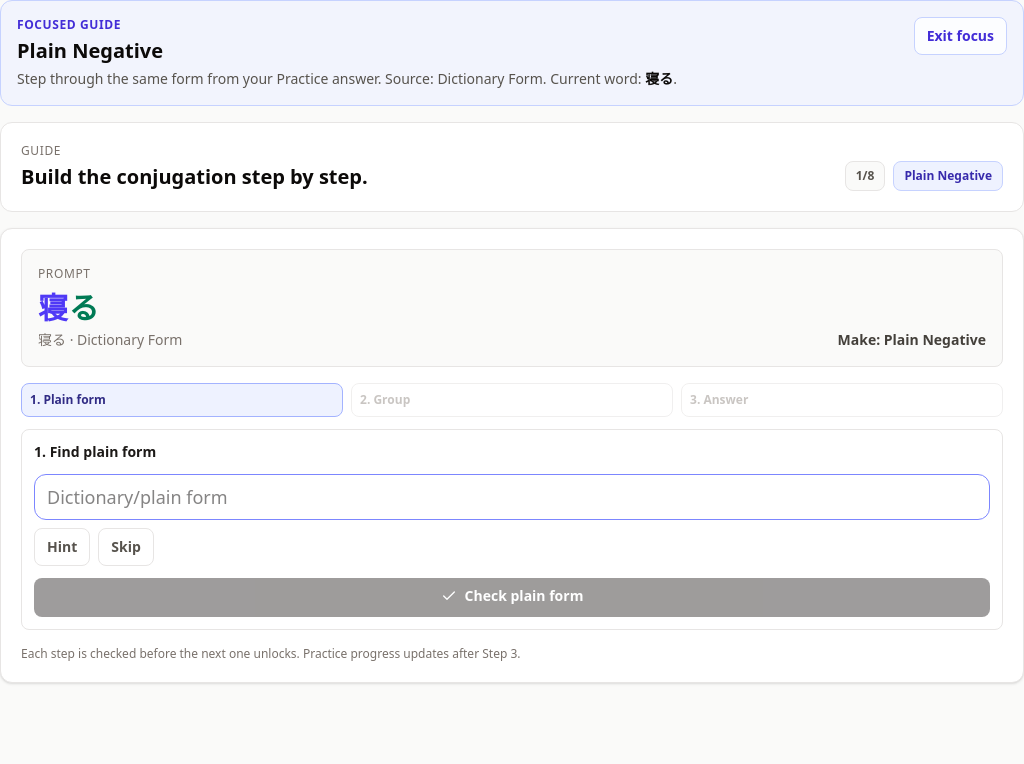
Scenario: Guide gated walkthrough › keeps a missed plain-form step locked until the learner types the correction
The image size is (1024, 764).
Expected: the button "2. Group" is disabled, [351, 383, 673, 417]
Type "taberu" into the field labelled "plain form" at x=512, y=497, box [34, 474, 990, 520]
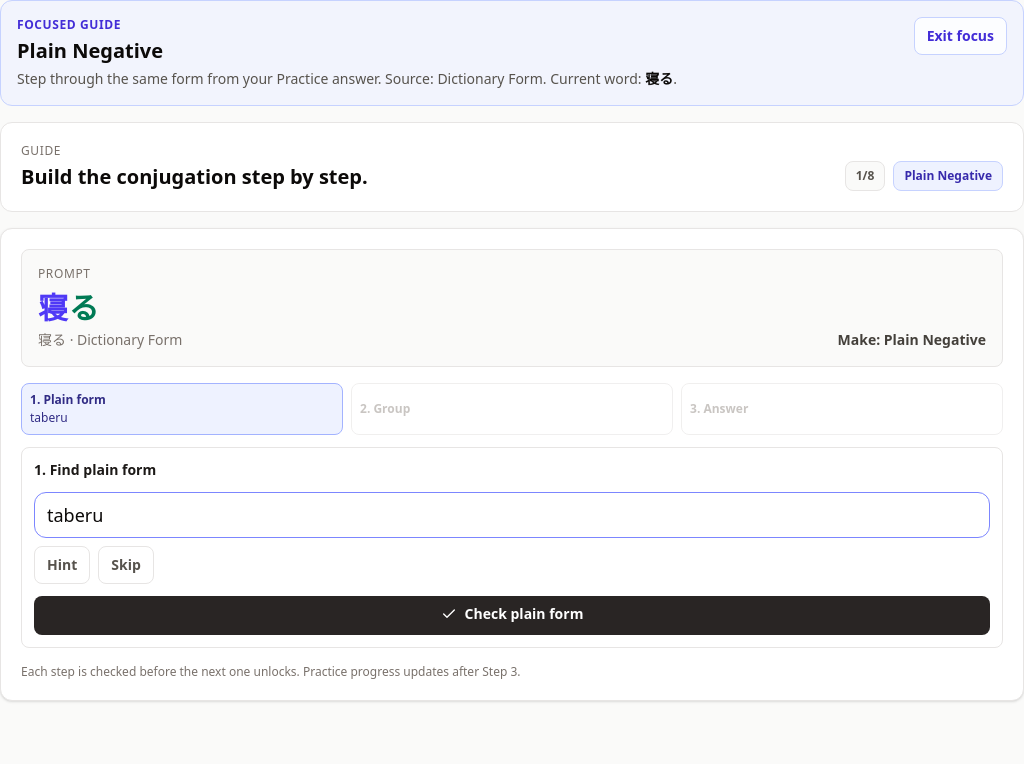
Click the button "Check plain form" at x=512, y=616, box [34, 596, 990, 635]
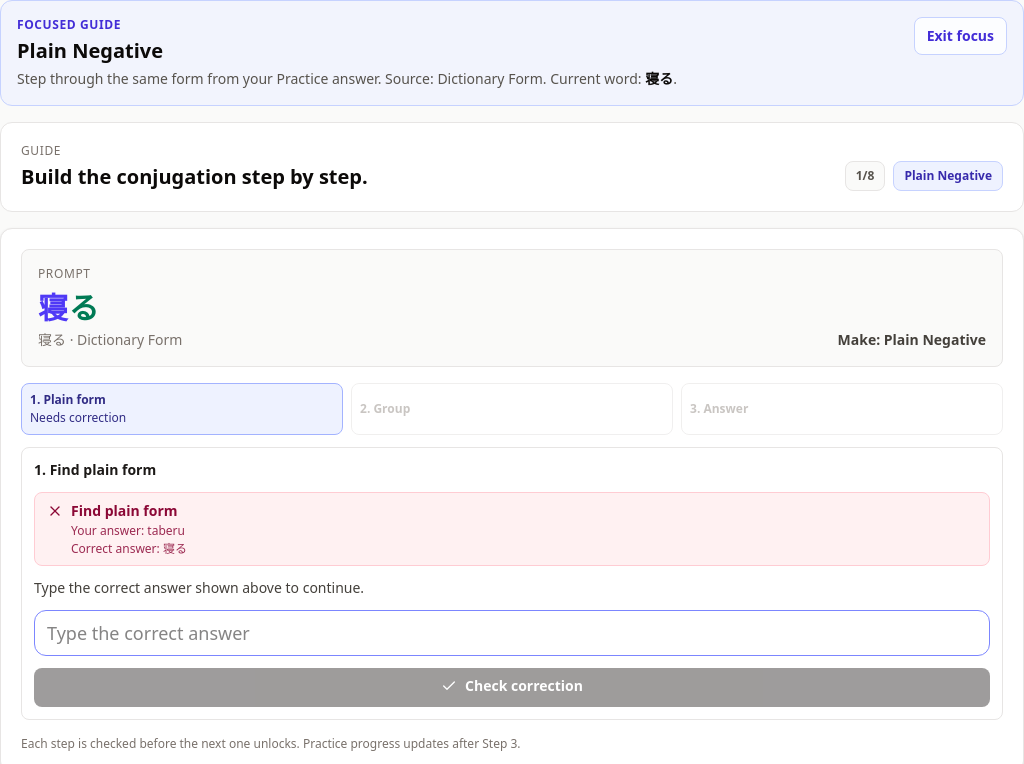
Expected: the button "2. Group" is disabled, [351, 383, 673, 435]
Result: the text "Your answer: taberu" is shown at [71, 523, 187, 539]
Result: the field named "Plain form" is empty
Type "taberu" into the field named "Plain form" at x=512, y=633, box [34, 610, 990, 656]
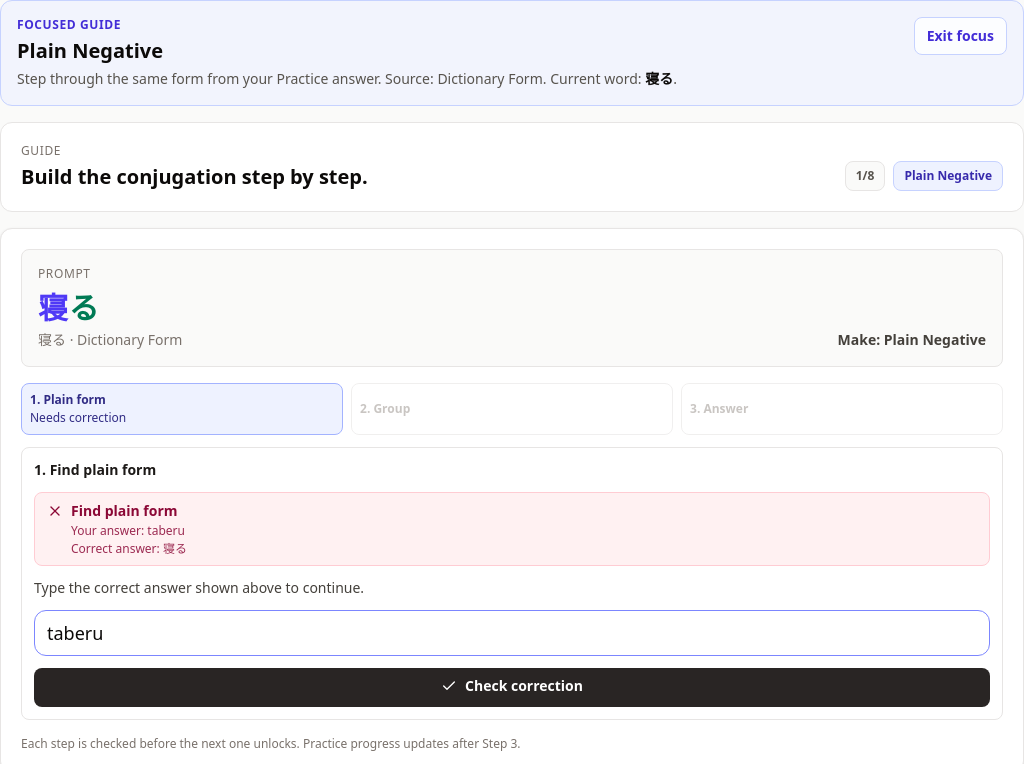
Click the button "Check correction" at x=512, y=688, box [34, 668, 990, 707]
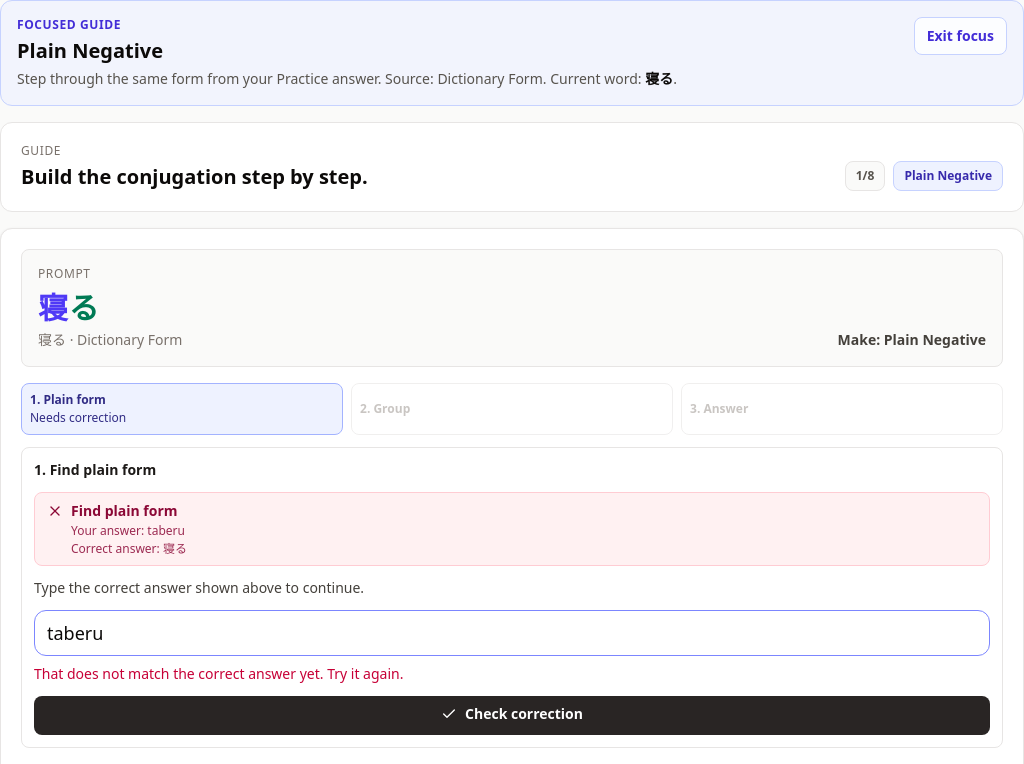
Result: the message "That does not match the correct answer yet. Try it again." is shown at [34, 664, 404, 683]
Replace the text in the field named "Plain form" with "neru" at x=512, y=633, box [34, 610, 990, 656]
Click the button "Check correction" at x=512, y=716, box [34, 696, 990, 735]
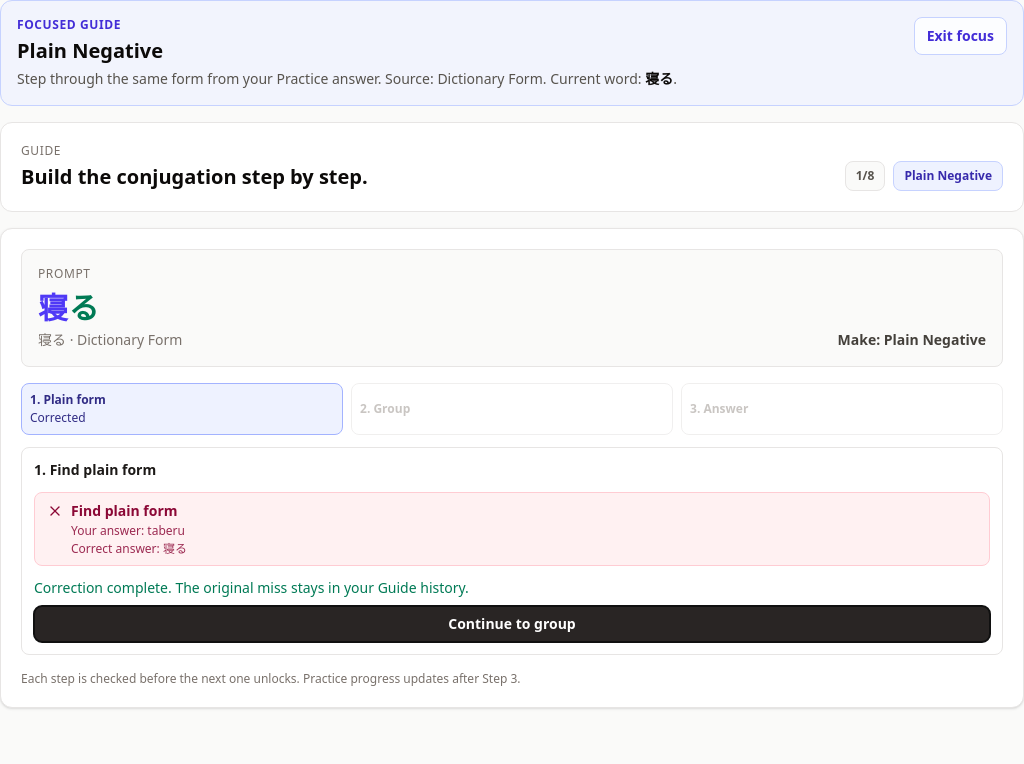
Expected: the button "2. Group" is disabled, [351, 383, 673, 435]
Result: the text "Your answer: taberu" is shown at [71, 523, 187, 539]
Result: the text "Correction complete" is shown at [34, 578, 469, 597]
Click the button "Continue to group" at x=512, y=624, box [34, 606, 990, 642]
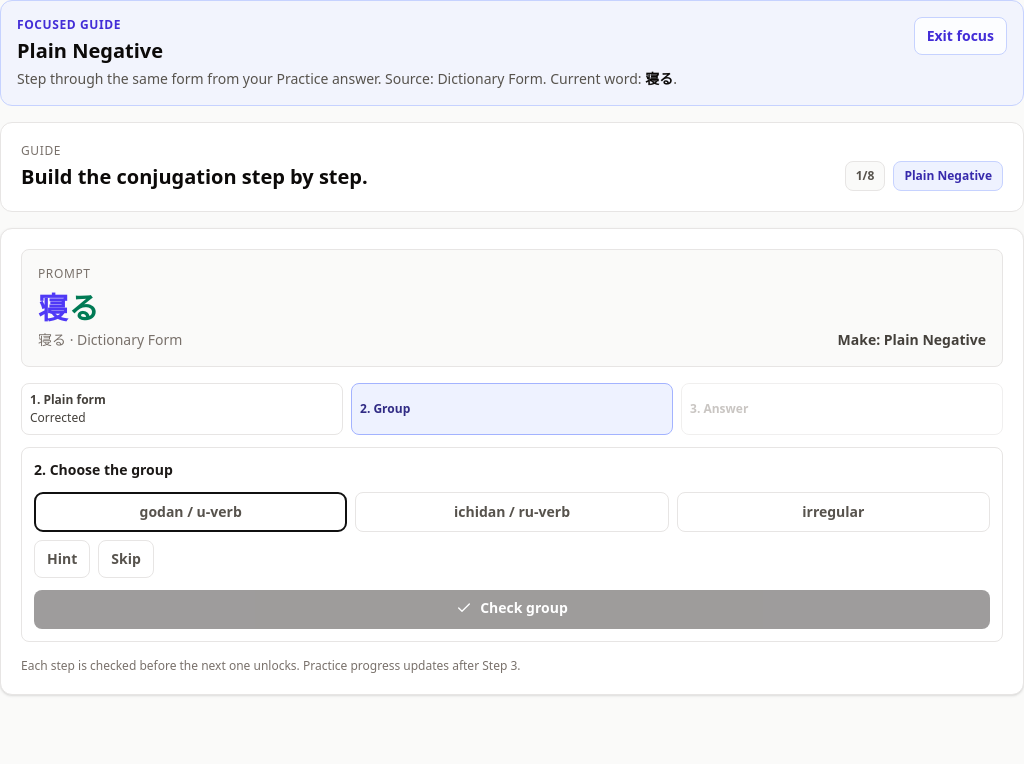
Result: the heading "2. Choose the group" is shown at [34, 460, 173, 479]
Result: the button "2. Group" is enabled at [351, 383, 673, 435]
